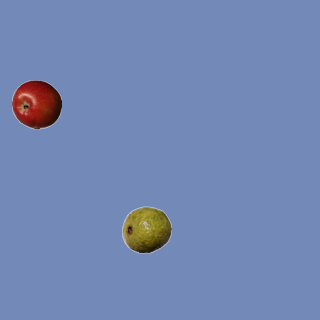Apple Braeburn: (11, 79, 61, 129)
Guava: (121, 204, 171, 254)
